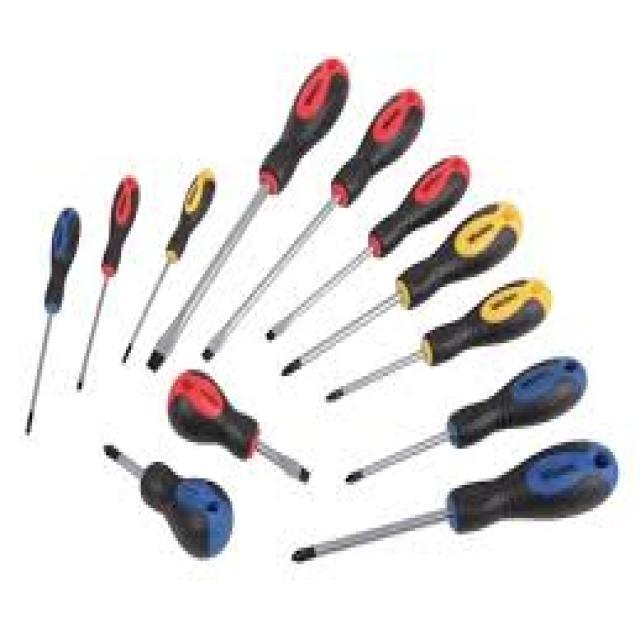screwdriver: (144, 56, 348, 376), (199, 84, 429, 361), (274, 194, 526, 390), (286, 436, 622, 564), (261, 153, 474, 344), (342, 354, 597, 486), (320, 278, 555, 406), (120, 164, 216, 368), (166, 366, 312, 485), (99, 442, 235, 561), (73, 172, 142, 400), (22, 205, 82, 442)
